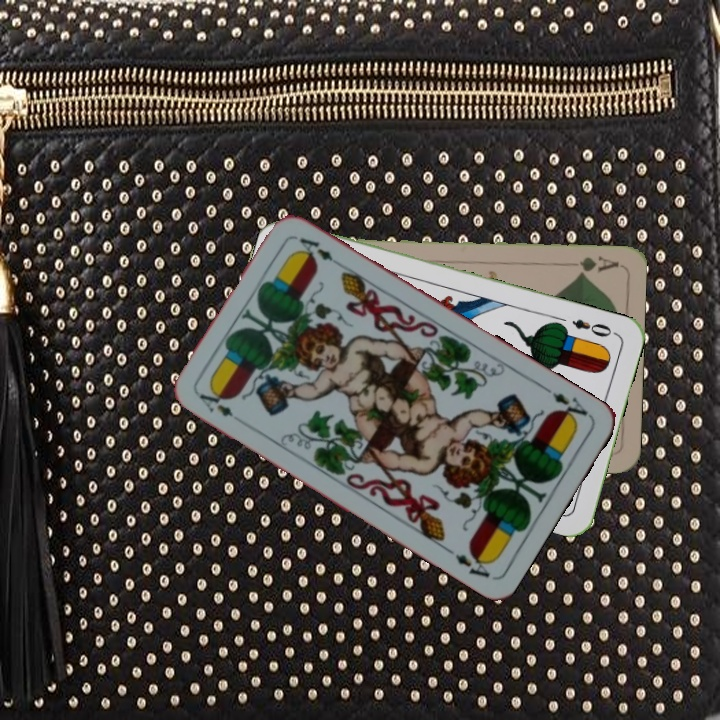EA: (548, 388, 593, 426), (195, 386, 236, 420)
EO: (568, 315, 619, 340)
GA: (561, 252, 621, 278)
